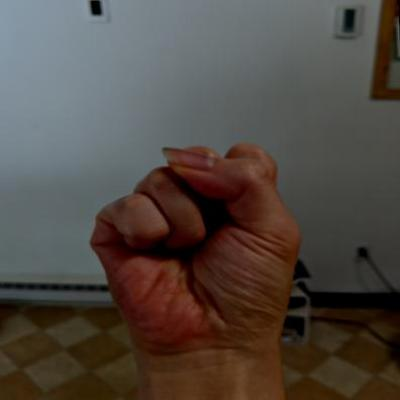hand: (79, 130, 311, 366)
